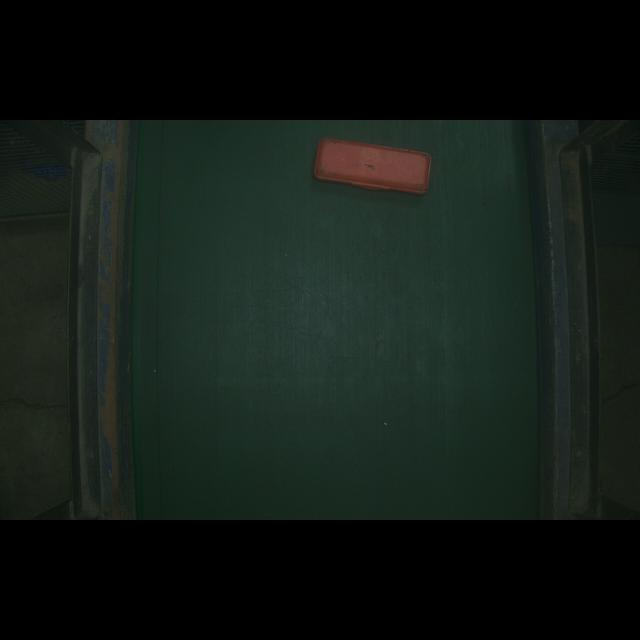mix rigid: (304, 135, 451, 212)
